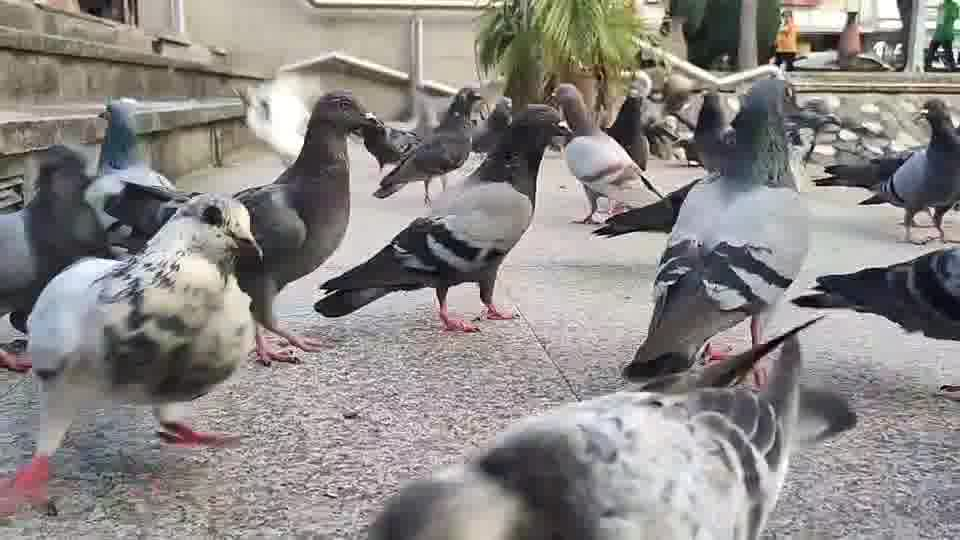Pigeon: (366, 315, 854, 539), (1, 190, 264, 516), (110, 90, 381, 367), (589, 74, 812, 379), (312, 99, 573, 334), (0, 96, 178, 370), (547, 81, 666, 225), (790, 243, 959, 342), (857, 96, 959, 244), (83, 96, 181, 248), (371, 86, 484, 208)
